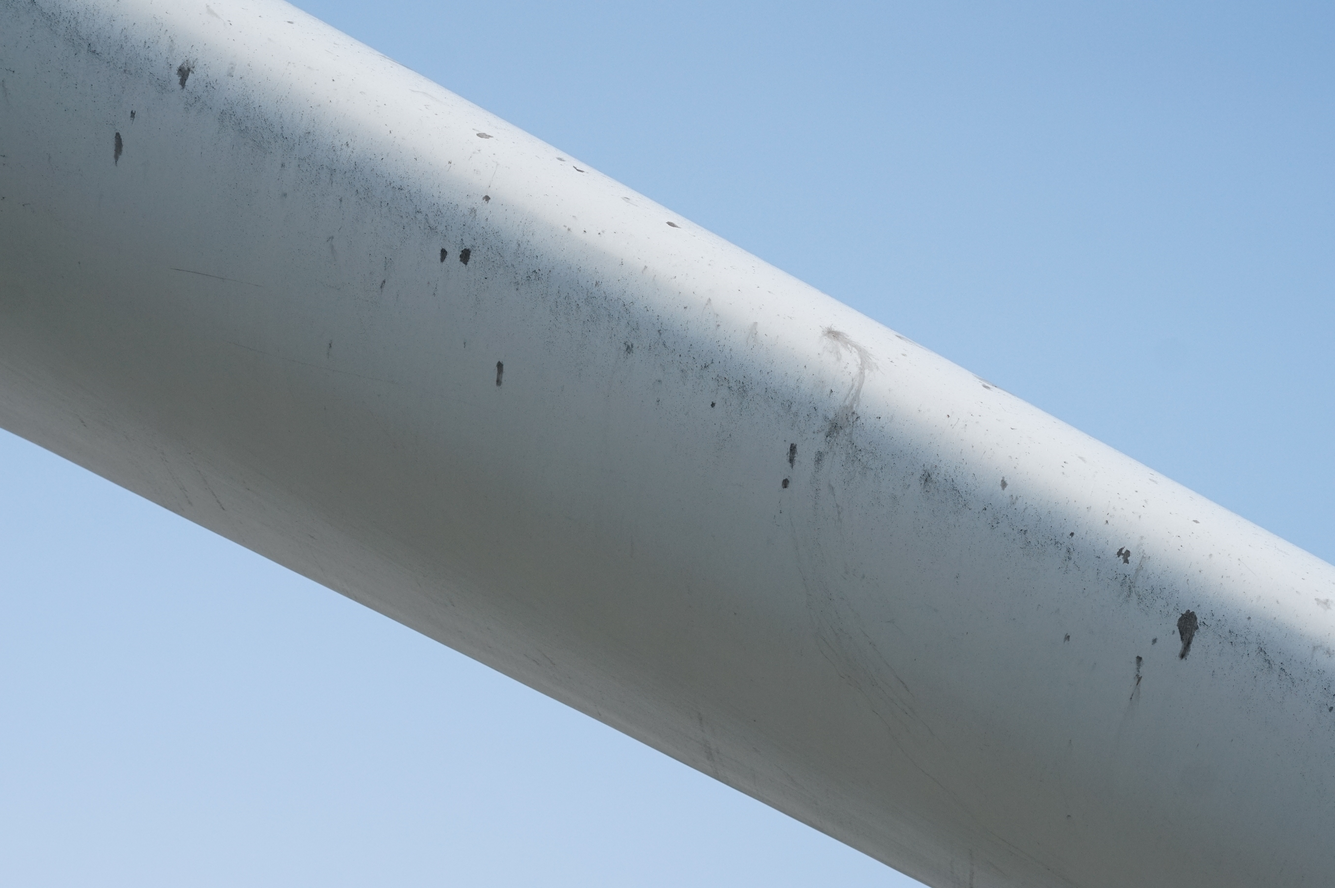Dirt: (1172, 602, 1205, 670)
